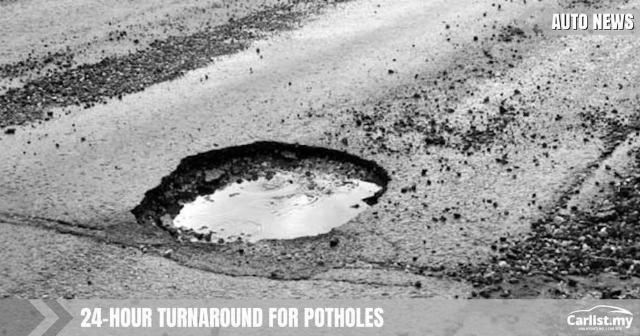Pothole: (128, 140, 394, 246)
